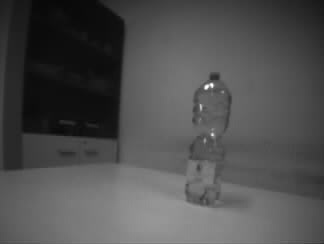Bottle: (183, 71, 232, 206)
